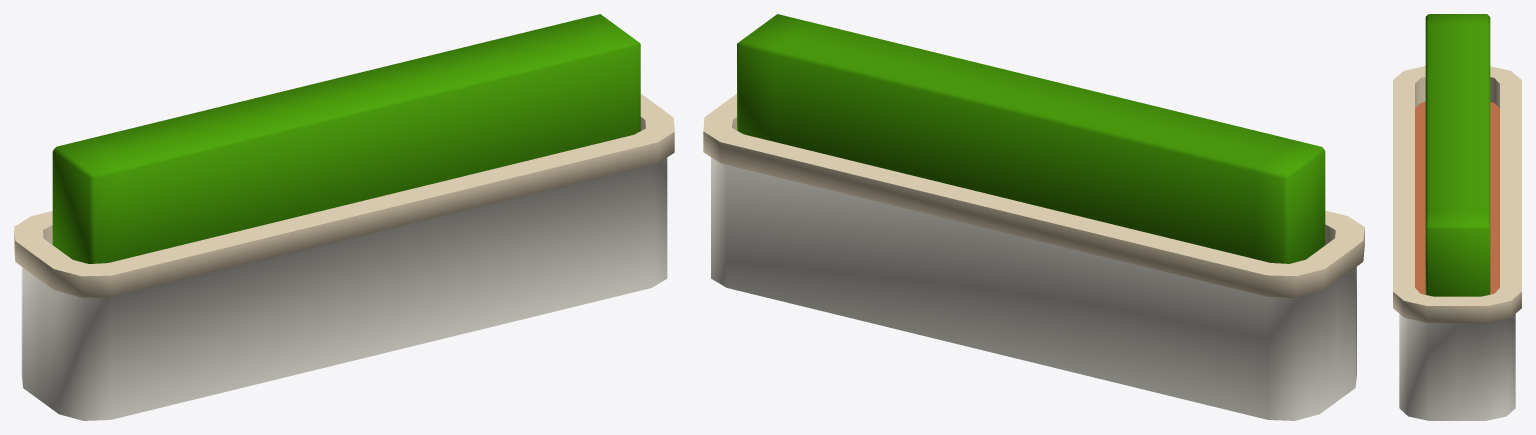
The model's file is Barrier.fbx.
3 renders of one model, left to right at view 1: azimuth 30°, elevation 25°; view 2: azimuth 150°, elevation 25°; view 3: azimuth 270°, elevation 25°, orthographic. The views are drawn at different scales.
Visible parts, largest first — view 1: Barrier; view 2: Barrier; view 3: Barrier.
Part boxes in pixels (<box>): Barrier: <box>14,14,674,420</box>; Barrier: <box>703,14,1364,420</box>; Barrier: <box>1393,14,1521,420</box>.
Size of the model in its own units: 440 by 157 by 99.5.
Materials: 1 (1 with a texture image).
